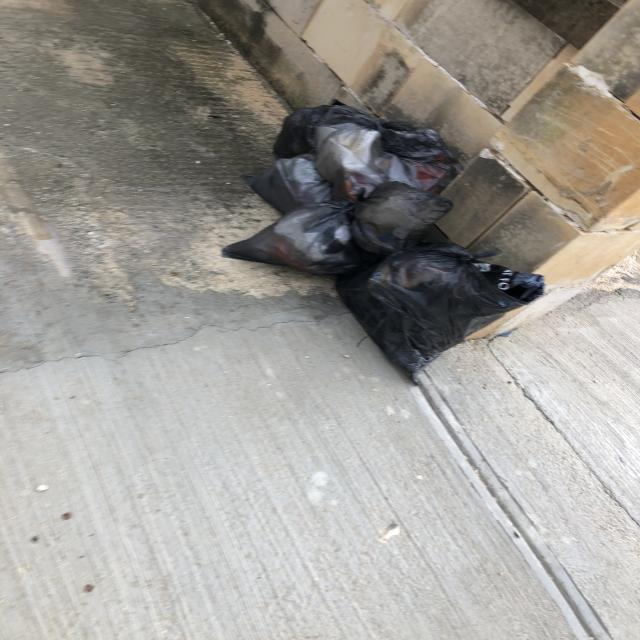Mixed Waste -Black Bag-: (333, 243, 549, 387), (223, 203, 368, 276), (316, 126, 460, 198), (353, 186, 457, 255), (277, 108, 387, 160), (251, 154, 335, 211)
